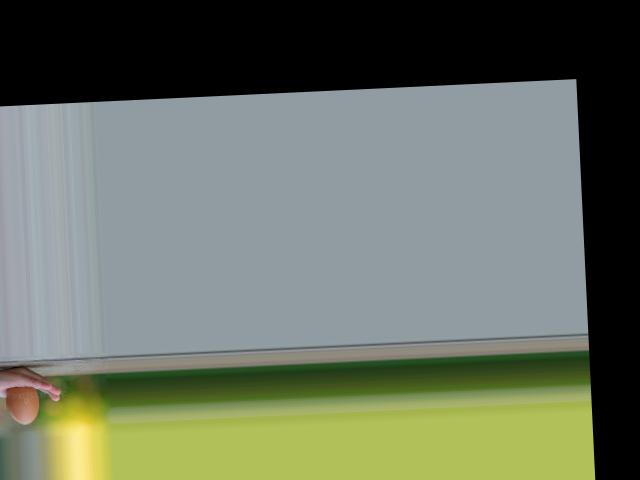egg: (3, 385, 39, 425)
